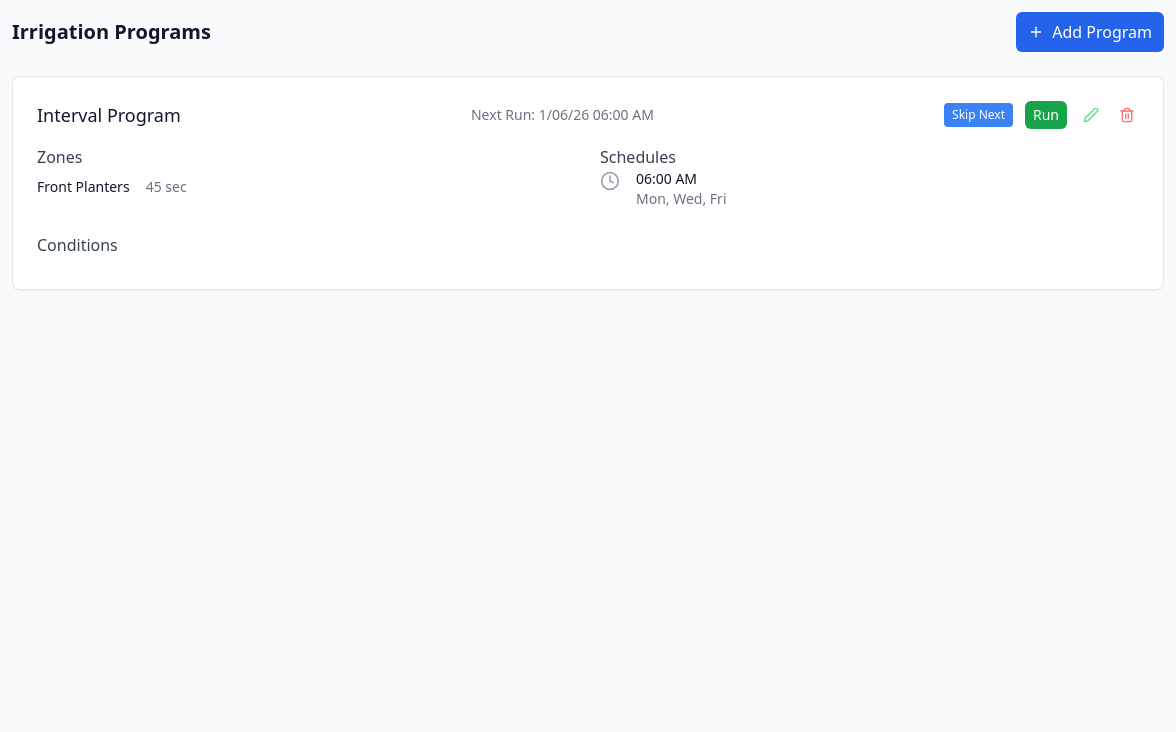
ProgramManager › shows an interval input when a schedule is switched to every N days
Click the button named "Edit program Interval Program".
click(1091, 115)  # box [1079,103,1103,127]
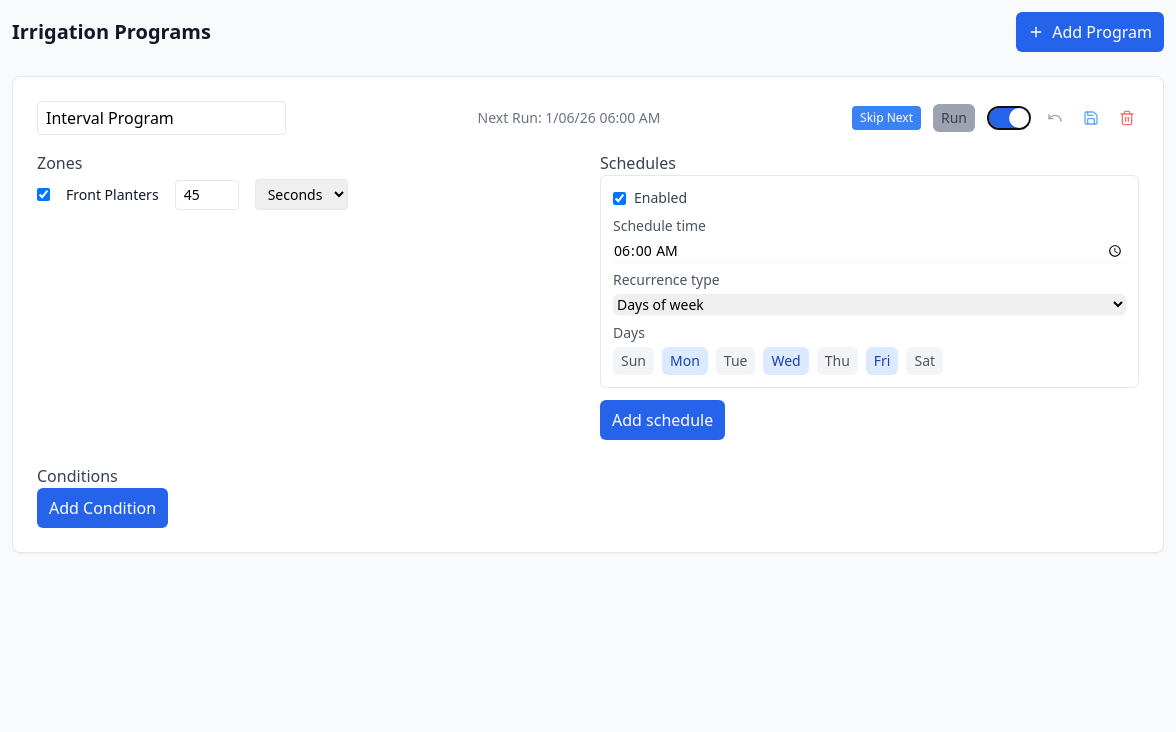
Select "Every N days" in the dropdown named "Recurrence type" at (870, 304), box [613,294,1126,315]
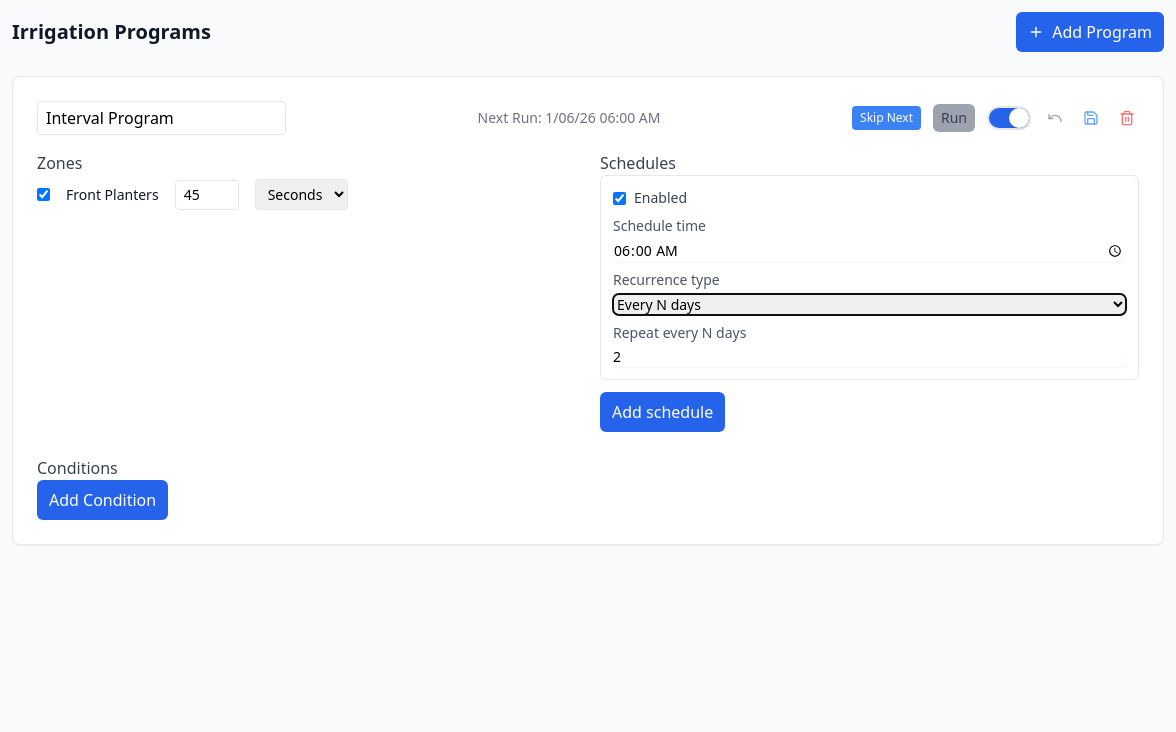
Check: the number field named "Repeat every N days" is shown, box [613,347,1126,367]
